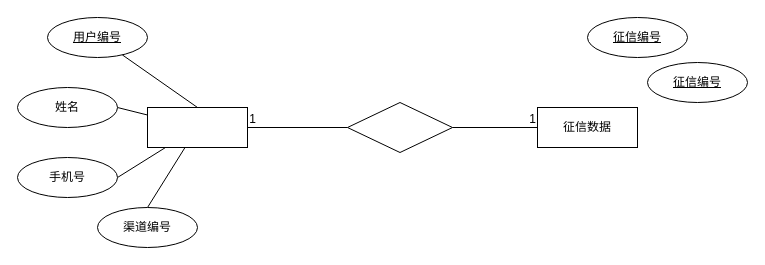
This 765x265 diagram has some shape labels left out. Here are the shapes that lost their labels. From the top down, the box of each, then its label:
(146, 106, 248, 148): 用户
(346, 102, 452, 152): 拥有
